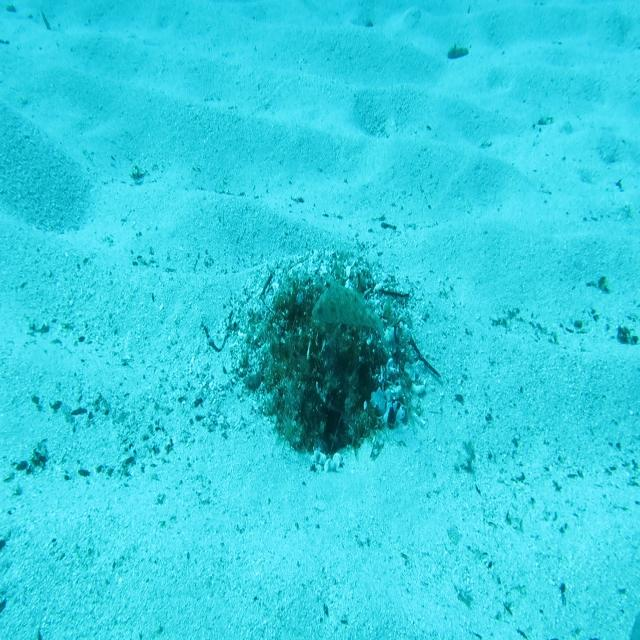ROLL: (310, 273, 390, 353)
core_nest: (301, 300, 345, 343)
female: (626, 608, 639, 640)
nest: (225, 244, 438, 485)
vegetation: (448, 41, 470, 61)
